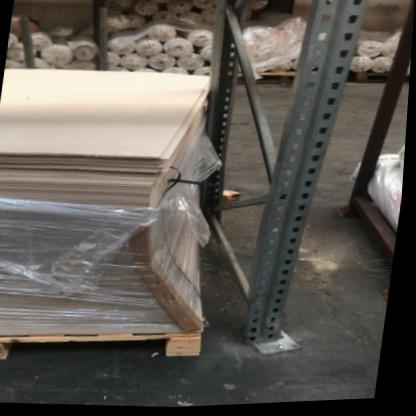vertical_damage: (240, 286, 311, 364)
